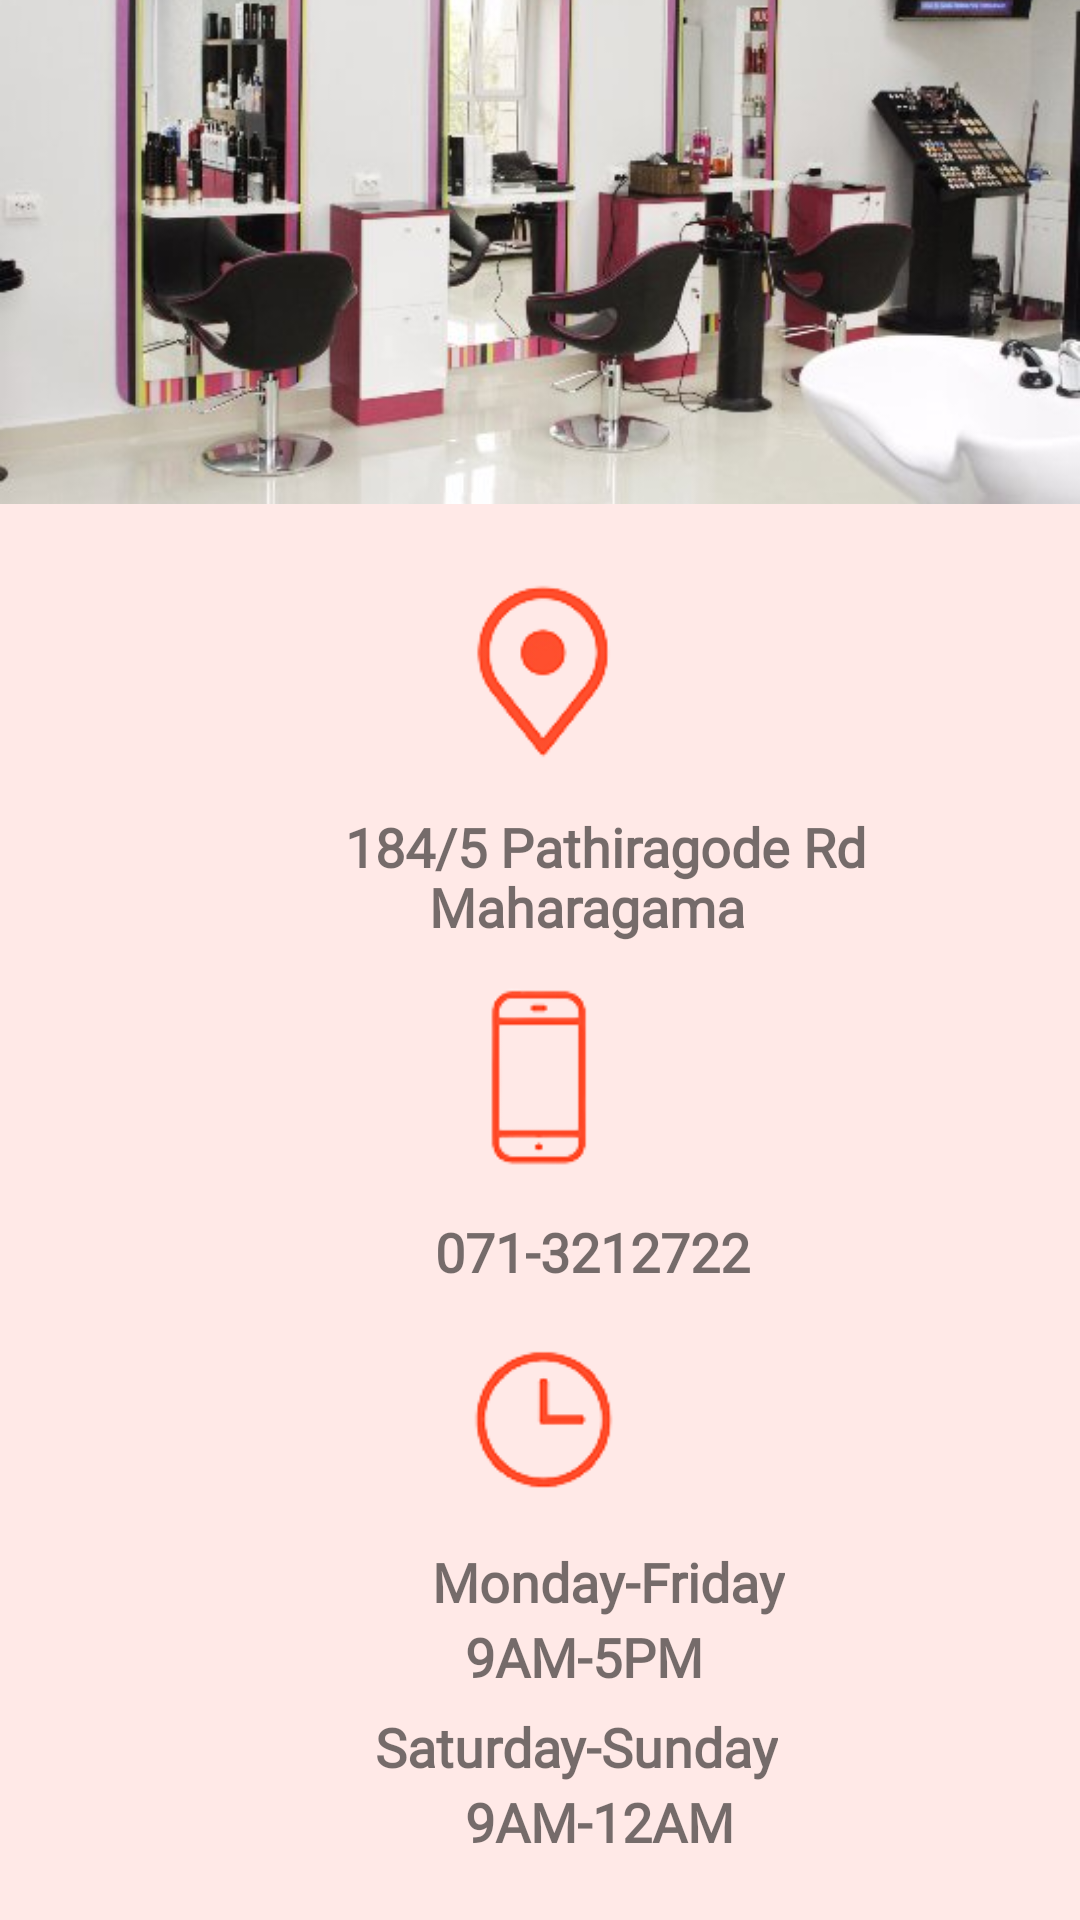

Locate icon controls on the screen. Image size 1080 x 1920, boxes as (x1,y1,x2,y2).
salonlocation: (477,586,608,757)
salonphone: (491,990,586,1165)
salontime: (475,1352,612,1488)
